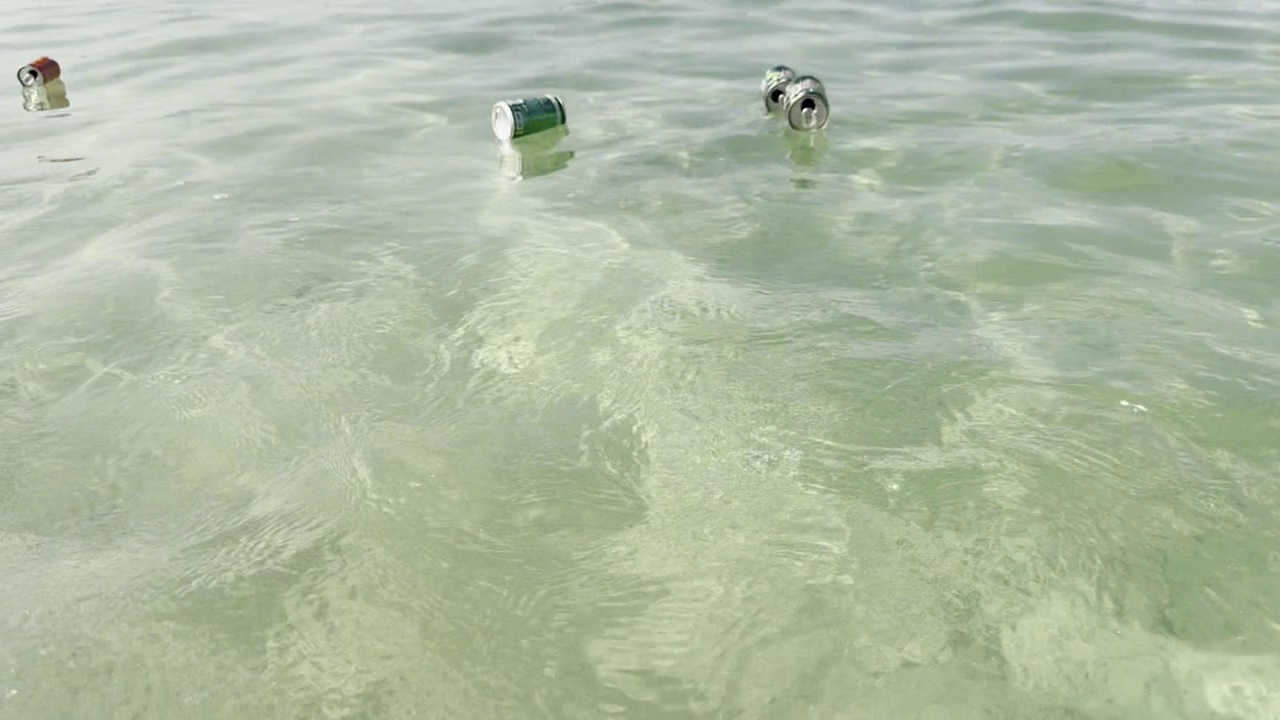debris: (482, 84, 578, 149), (779, 74, 833, 131), (758, 59, 801, 114), (11, 50, 68, 91)
